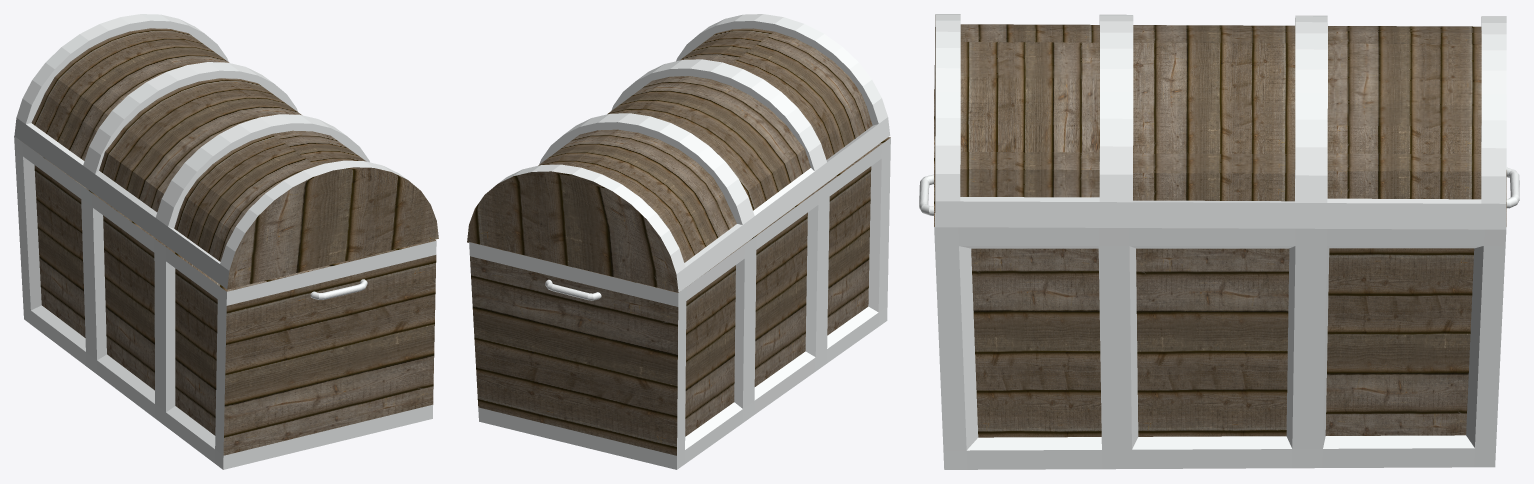
The model's file is sunduk.glb.
The picture shows the model from 3 angles, left to right: view 1: azimuth 30°, elevation 25°; view 2: azimuth 150°, elevation 25°; view 3: azimuth 270°, elevation 25°; orthographic projection. The views are drawn at different scales.
Visible parts, largest first — view 1: korobka, krishka, Cylinder.001; view 2: korobka, krishka, Cylinder; view 3: korobka, krishka.
Boxes of the visible parts, left/top/right/bottom form: korobka: left=14, top=136, right=436, bottom=469; krishka: left=14, top=14, right=438, bottom=289; Cylinder.001: left=310, top=279, right=367, bottom=299; korobka: left=469, top=137, right=890, bottom=469; krishka: left=467, top=14, right=890, bottom=292; Cylinder: left=545, top=279, right=601, bottom=300; korobka: left=934, top=89, right=1506, bottom=469; krishka: left=934, top=14, right=1506, bottom=229.
Bounding box in the file's own units: 0.3901 × 0.4856 × 0.7111.
2 materials, 1 textured.
